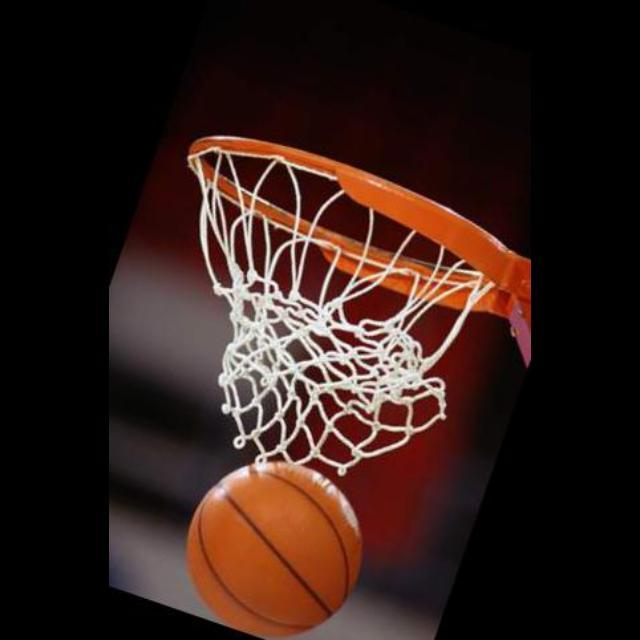basketball: (182, 464, 362, 640)
rim: (193, 138, 502, 468)
